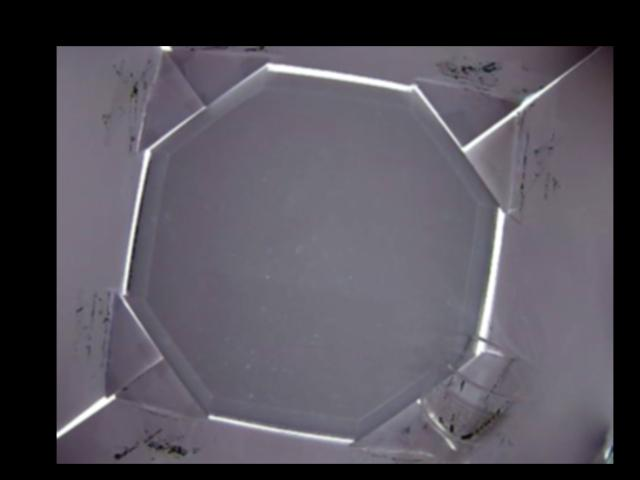Cup: (423, 329, 537, 462)
